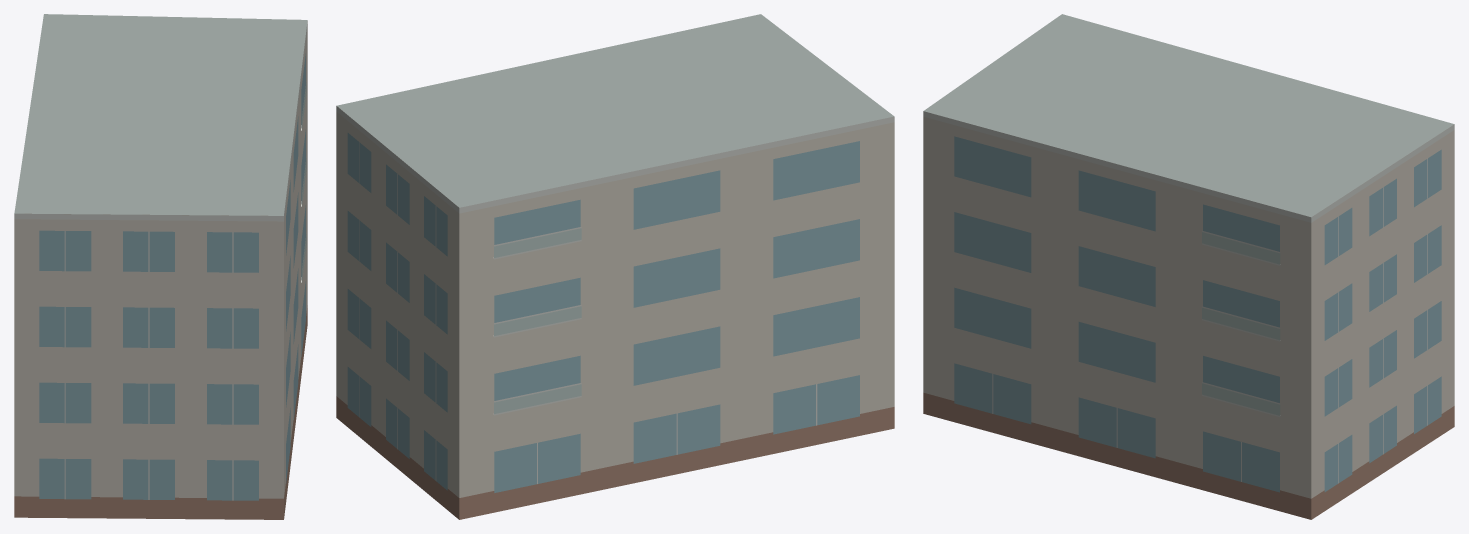
The model's file is survey-upis-32740186.glb.
The picture shows the model from 3 angles, left to right: view 1: azimuth 30°, elevation 25°; view 2: azimuth 150°, elevation 25°; view 3: azimuth 270°, elevation 25°; orthographic projection. The views are drawn at different scales.
Parts seen in each view (by area): view 1: survey-upis-32740186.tmp; view 2: survey-upis-32740186.tmp; view 3: survey-upis-32740186.tmp.
Part boxes in pixels (left/top/right/bottom): survey-upis-32740186.tmp: left=14, top=14, right=307, bottom=519; survey-upis-32740186.tmp: left=336, top=14, right=894, bottom=519; survey-upis-32740186.tmp: left=923, top=14, right=1454, bottom=519.
Bounding box in the file's own units: 19.03 × 13.2 × 21.02.
